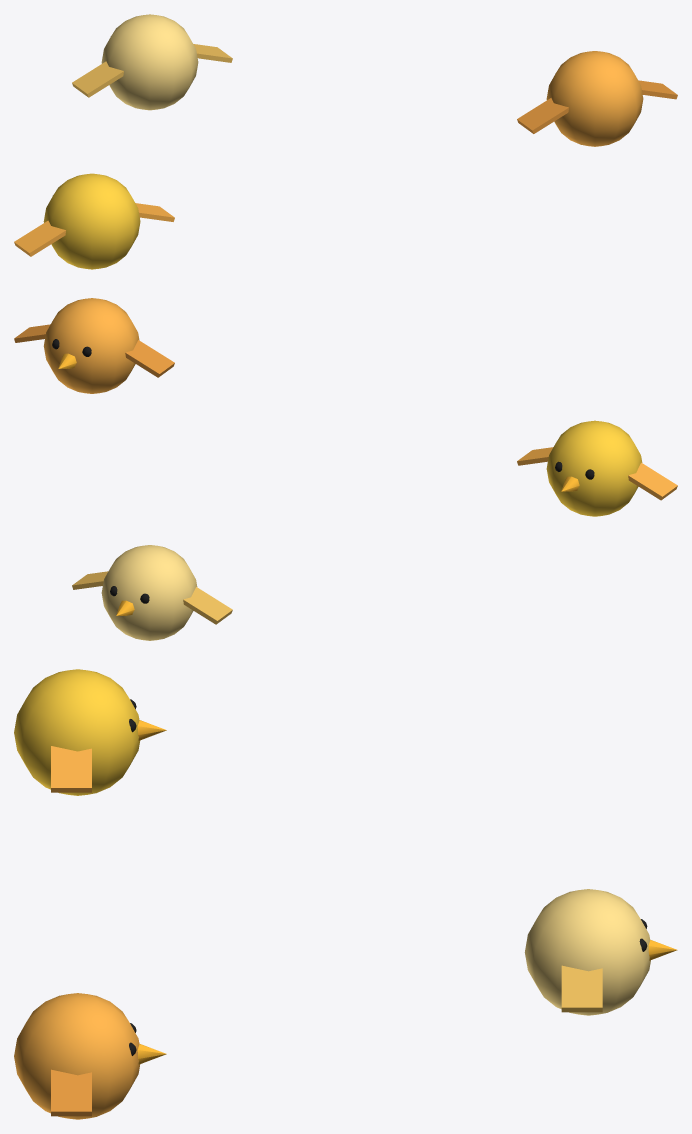
The model's file is birdFlock.glb.
3 renders of one model, top to bottom at view 1: azimuth 30°, elevation 25°; view 2: azimuth 150°, elevation 25°; view 3: azimuth 270°, elevation 25°, orthographic. The views are drawn at different scales.
Visible parts, largest first — view 1: Body (×3), WingL (×3), WingR (×3); view 2: Body (×3), WingL (×3); view 3: Body (×3), WingR (×3).
Boxes of the visible parts, x1=… form: Body (×3): x1=43, y1=14, x2=643, y2=269; WingL (×3): x1=14, y1=61, x2=568, y2=256; WingR (×3): x1=135, y1=44, x2=677, y2=221; Body (×3): x1=43, y1=298, x2=642, y2=640; WingL (×3): x1=125, y1=340, x2=677, y2=624; Body (×3): x1=14, y1=669, x2=650, y2=1119; WingR (×3): x1=51, y1=746, x2=602, y2=1116.
Bounding box in the file's own units: 7.74 × 1.5 × 5.2.
